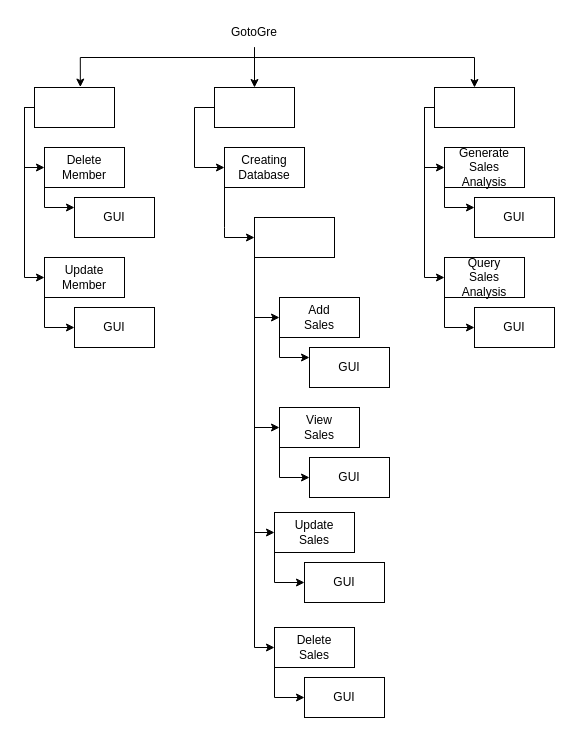
Image size: 572x735. Some labels were removed from this diagram. Each missing label, with the box of its shape:
Database Connection: (254, 216, 334, 258)
Member Management: (34, 86, 114, 128)
Report: (434, 86, 514, 128)
Sales Management: (214, 86, 294, 128)
